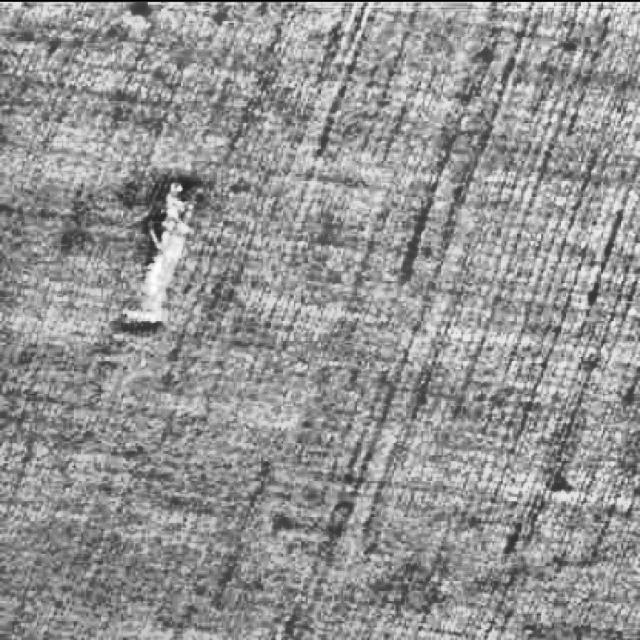hole: (110, 164, 212, 336)
